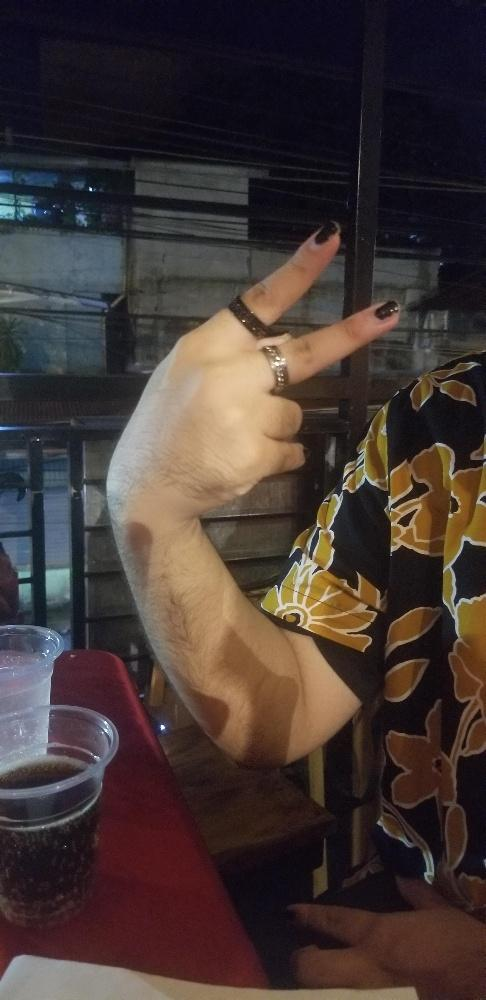k: (106, 218, 410, 508)
